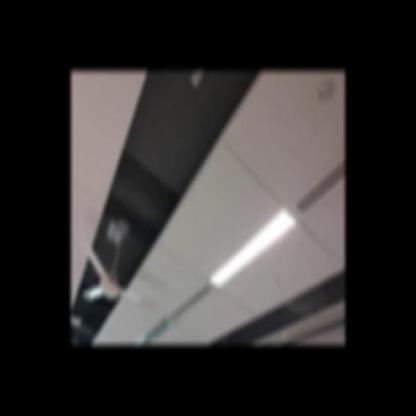light_on: (204, 197, 298, 295)
